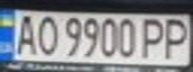0: (115, 15, 142, 60), (100, 15, 121, 58)
9: (78, 15, 103, 58), (60, 14, 84, 57)
A: (12, 11, 39, 56)
O: (33, 12, 60, 56)
P: (157, 15, 193, 61), (136, 15, 169, 60)
